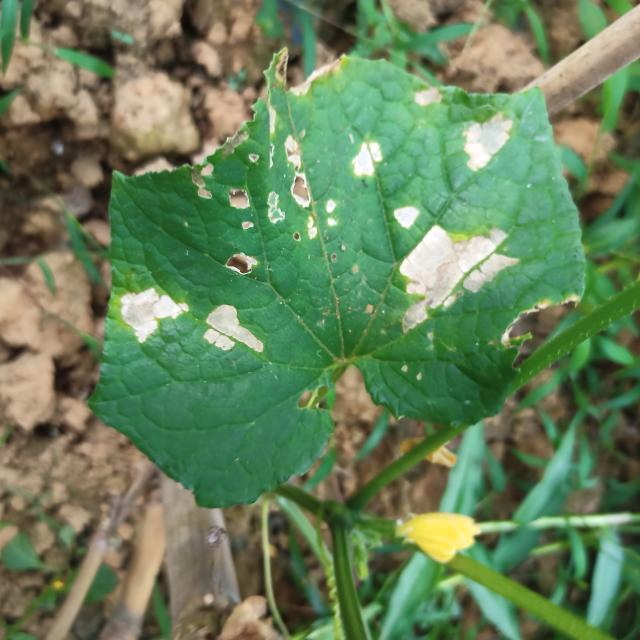disease_cucumber: (386, 194, 514, 327), (263, 134, 336, 246), (116, 279, 195, 345), (454, 112, 529, 177), (220, 179, 263, 282), (203, 297, 271, 362), (348, 134, 386, 187), (412, 82, 443, 110)
